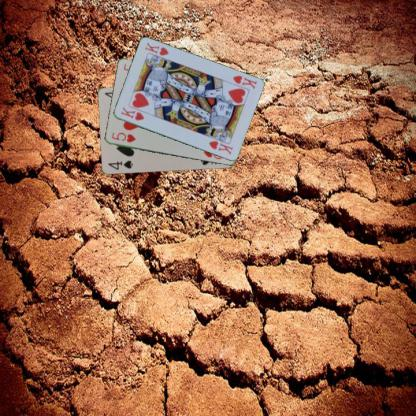4s: (105, 158, 134, 171)
5h: (109, 130, 137, 144)
Kh: (230, 73, 258, 91), (118, 104, 145, 122)
